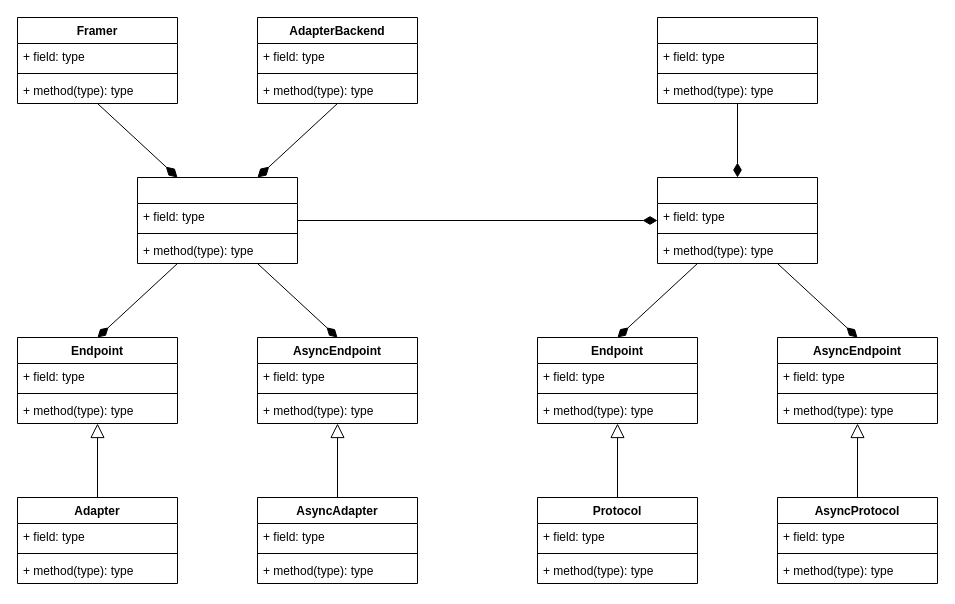
This 955x604 diagram has some shape labels left out. The shapes that lost their labels are listed below. From the top down, each one's box as (x1, y1, x2, y2) in pixels, then its label:
(656, 16, 818, 104): Codec
(136, 176, 298, 264): Engine
(656, 176, 818, 264): ProtocolEngine
